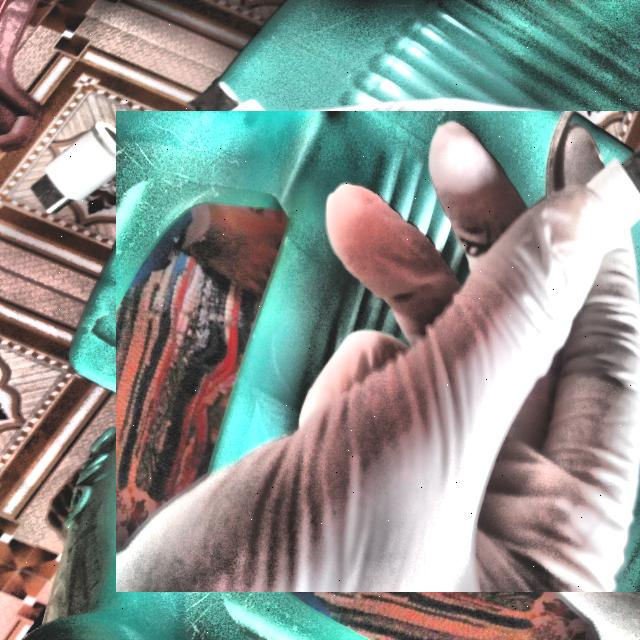gloved: (134, 91, 640, 611)
